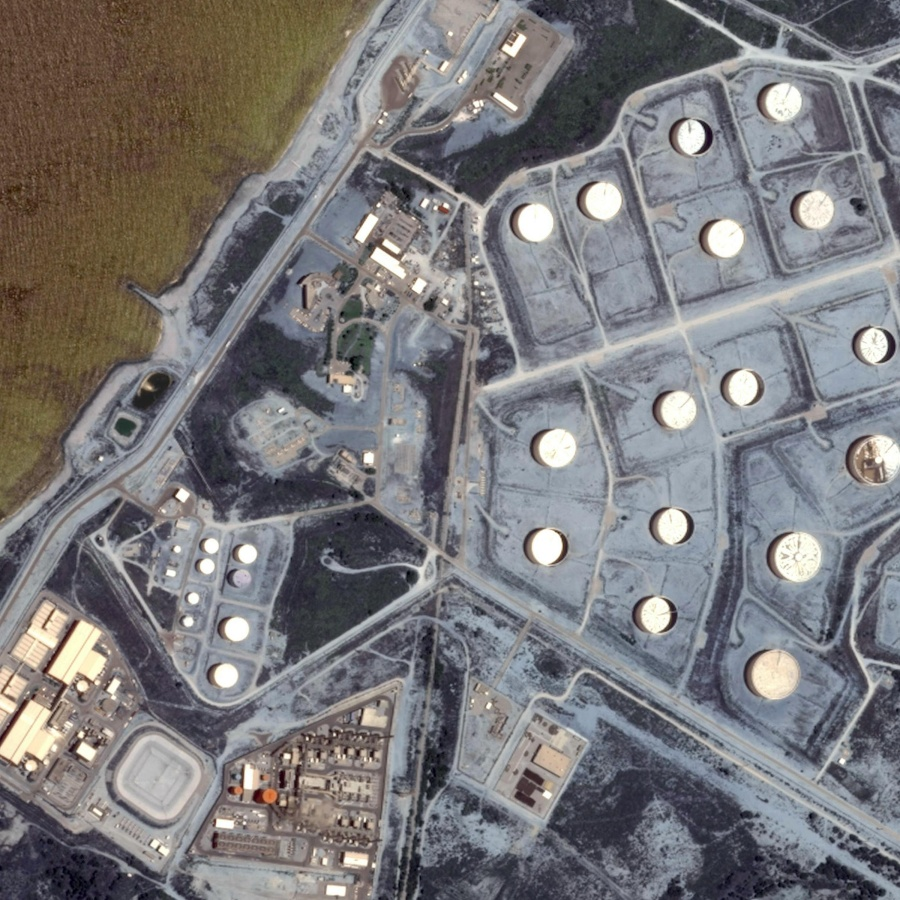PowerPlant: (98, 487, 330, 700)
